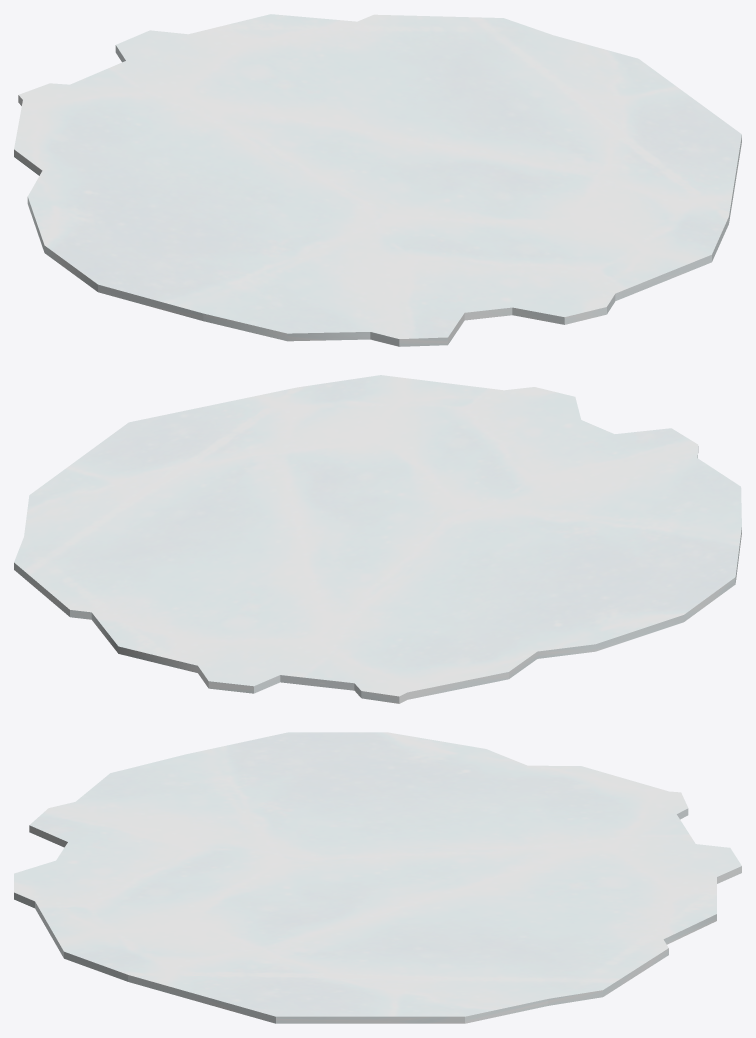
The model's file is ice plane3.fbx.
3 views of the same model, one above another, from view 1: azimuth 30°, elevation 25°; view 2: azimuth 150°, elevation 25°; view 3: azimuth 270°, elevation 25° (orthographic). The views are drawn at different scales.
Parts seen in each view (by area): view 1: polySurface3; view 2: polySurface3; view 3: polySurface3.
Part boxes in pixels (x1=…): polySurface3: x1=14, y1=14, x2=741, y2=346; polySurface3: x1=14, y1=375, x2=741, y2=703; polySurface3: x1=14, y1=732, x2=741, y2=1023.
Bounding box in the file's own units: 2.34 × 0.0271 × 2.53.
Materials: 1 (1 with a texture image).
